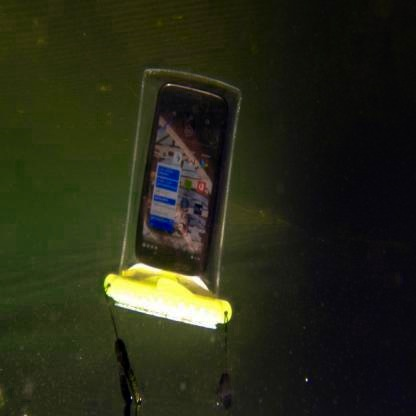cellphone: (136, 84, 229, 275)
